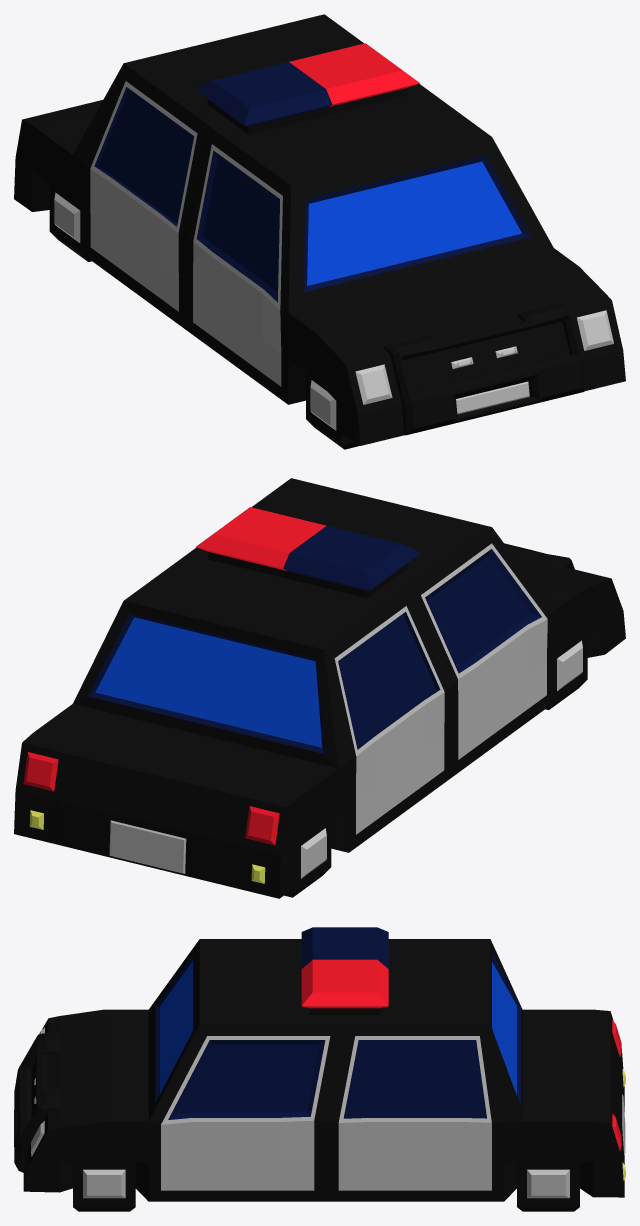
Rendered from cop.FBX.
3 views of the same model, one above another, from view 1: azimuth 30°, elevation 25°; view 2: azimuth 150°, elevation 25°; view 3: azimuth 270°, elevation 25° (orthographic). The views are drawn at different scales.
Visible parts, largest first — view 1: Cop Car; view 2: Cop Car; view 3: Cop Car.
Part boxes in pixels (left/top/right/bottom): Cop Car: left=14, top=14, right=625, bottom=449; Cop Car: left=14, top=478, right=625, bottom=898; Cop Car: left=14, top=927, right=625, bottom=1211.
Size of the model in its own units: 60.28 by 50.23 by 138.
